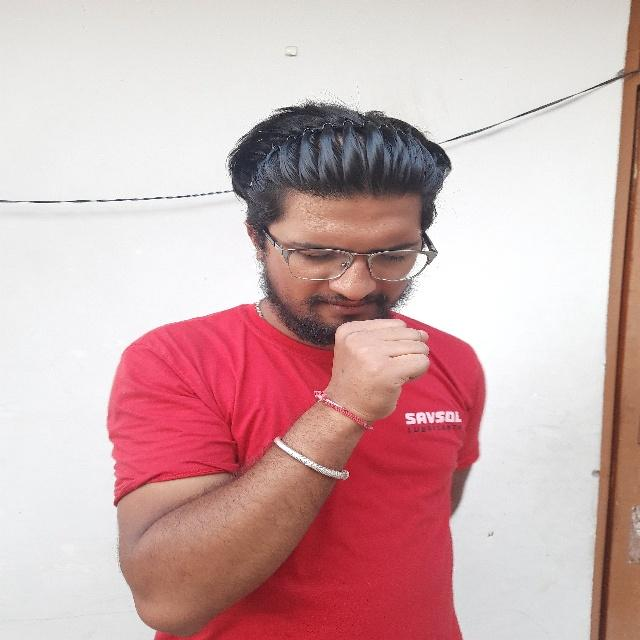Fist Mouth: (232, 107, 454, 418)
